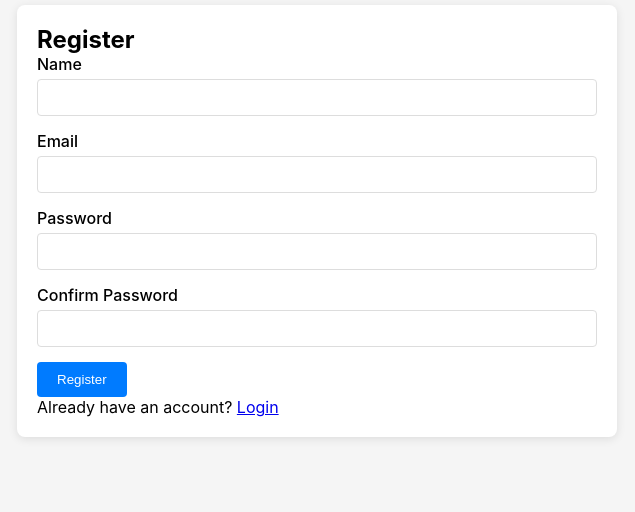
Test case: Register Integration Tests › shows error when passwords do not match
Type "John Doe" into the field labelled "Name". click: (317, 98)
box: [37,79,597,116]
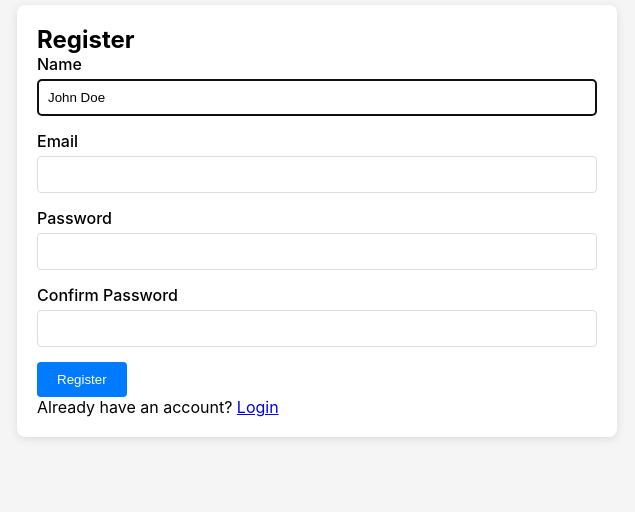
Type "john@example.com" into the field labelled "Email". click: (317, 174)
box: [37,156,597,193]
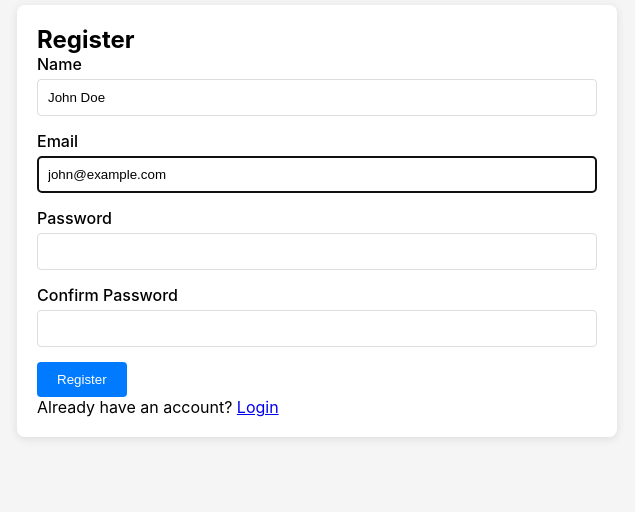
Type "password123" into the password field labelled "Password". click: (317, 252)
box: [37,233,597,270]
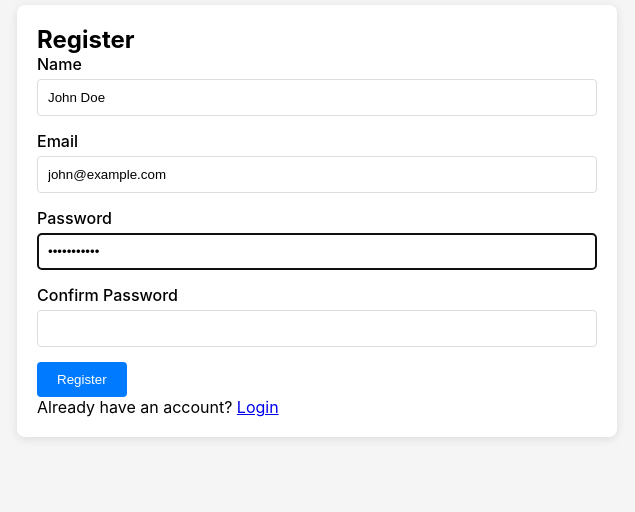
Type "different" into the password field labelled "Confirm Password". click: (317, 328)
box: [37,310,597,347]
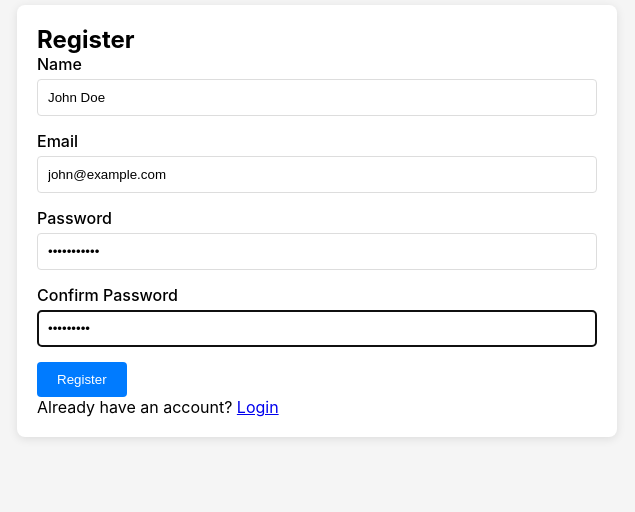
Click the button "Register". click: (82, 380)
box: [37,362,127,397]
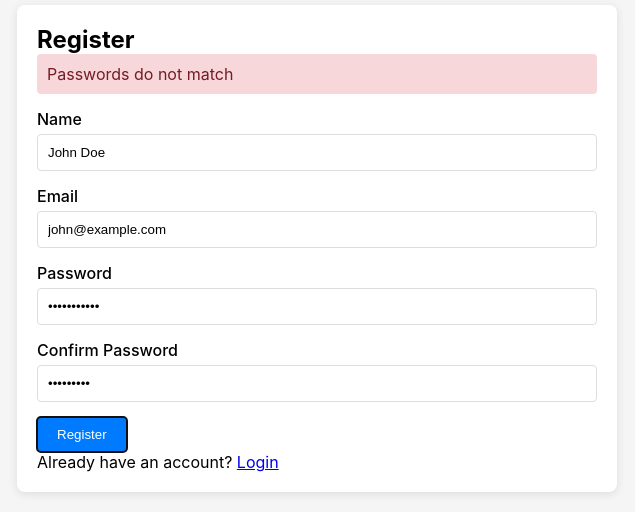
Result: the message reads "Passwords do not match" at [47,64,233,84]
